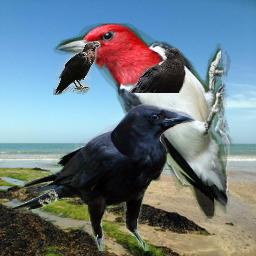Crow: (11, 104, 197, 251), (127, 47, 186, 93), (53, 41, 101, 95)
Woodpecker: (52, 23, 237, 219)
